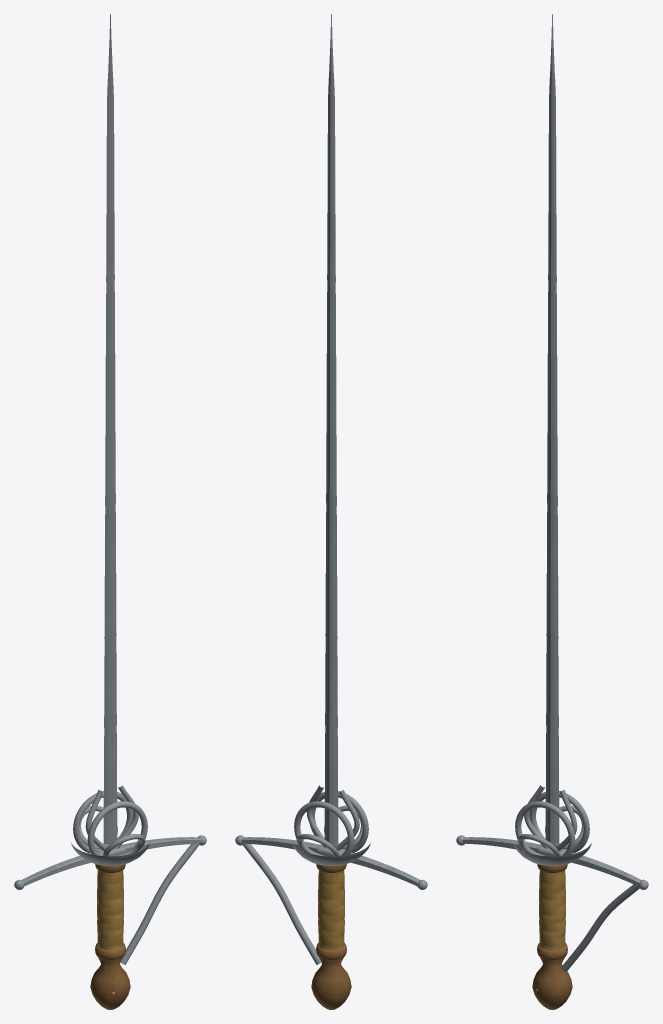
File: rapier.glb
The picture shows the model from 3 angles, left to right: view 1: azimuth 30°, elevation 25°; view 2: azimuth 150°, elevation 25°; view 3: azimuth 330°, elevation 25°; orthographic projection.
Visible parts, largest first — view 1: steel / forged blade steel, brass / polished brass furniture, bronze / cast bronze with patina; view 2: steel / forged blade steel, brass / polished brass furniture, bronze / cast bronze with patina; view 3: steel / forged blade steel, brass / polished brass furniture, bronze / cast bronze with patina.
Boxes of the visible parts, <box> form: steel / forged blade steel: <box>14,14,206,964</box>; brass / polished brass furniture: <box>97,870,123,950</box>; bronze / cast bronze with patina: <box>90,864,130,1009</box>; steel / forged blade steel: <box>235,14,427,964</box>; brass / polished brass furniture: <box>318,870,344,950</box>; bronze / cast bronze with patina: <box>311,864,351,1009</box>; steel / forged blade steel: <box>456,14,648,971</box>; brass / polished brass furniture: <box>539,870,565,950</box>; bronze / cast bronze with patina: <box>532,864,572,1009</box>.
Size of the model in its own units: 0.2412 by 1.2 by 0.0918.
Materials: 4 (3 with a texture image).
